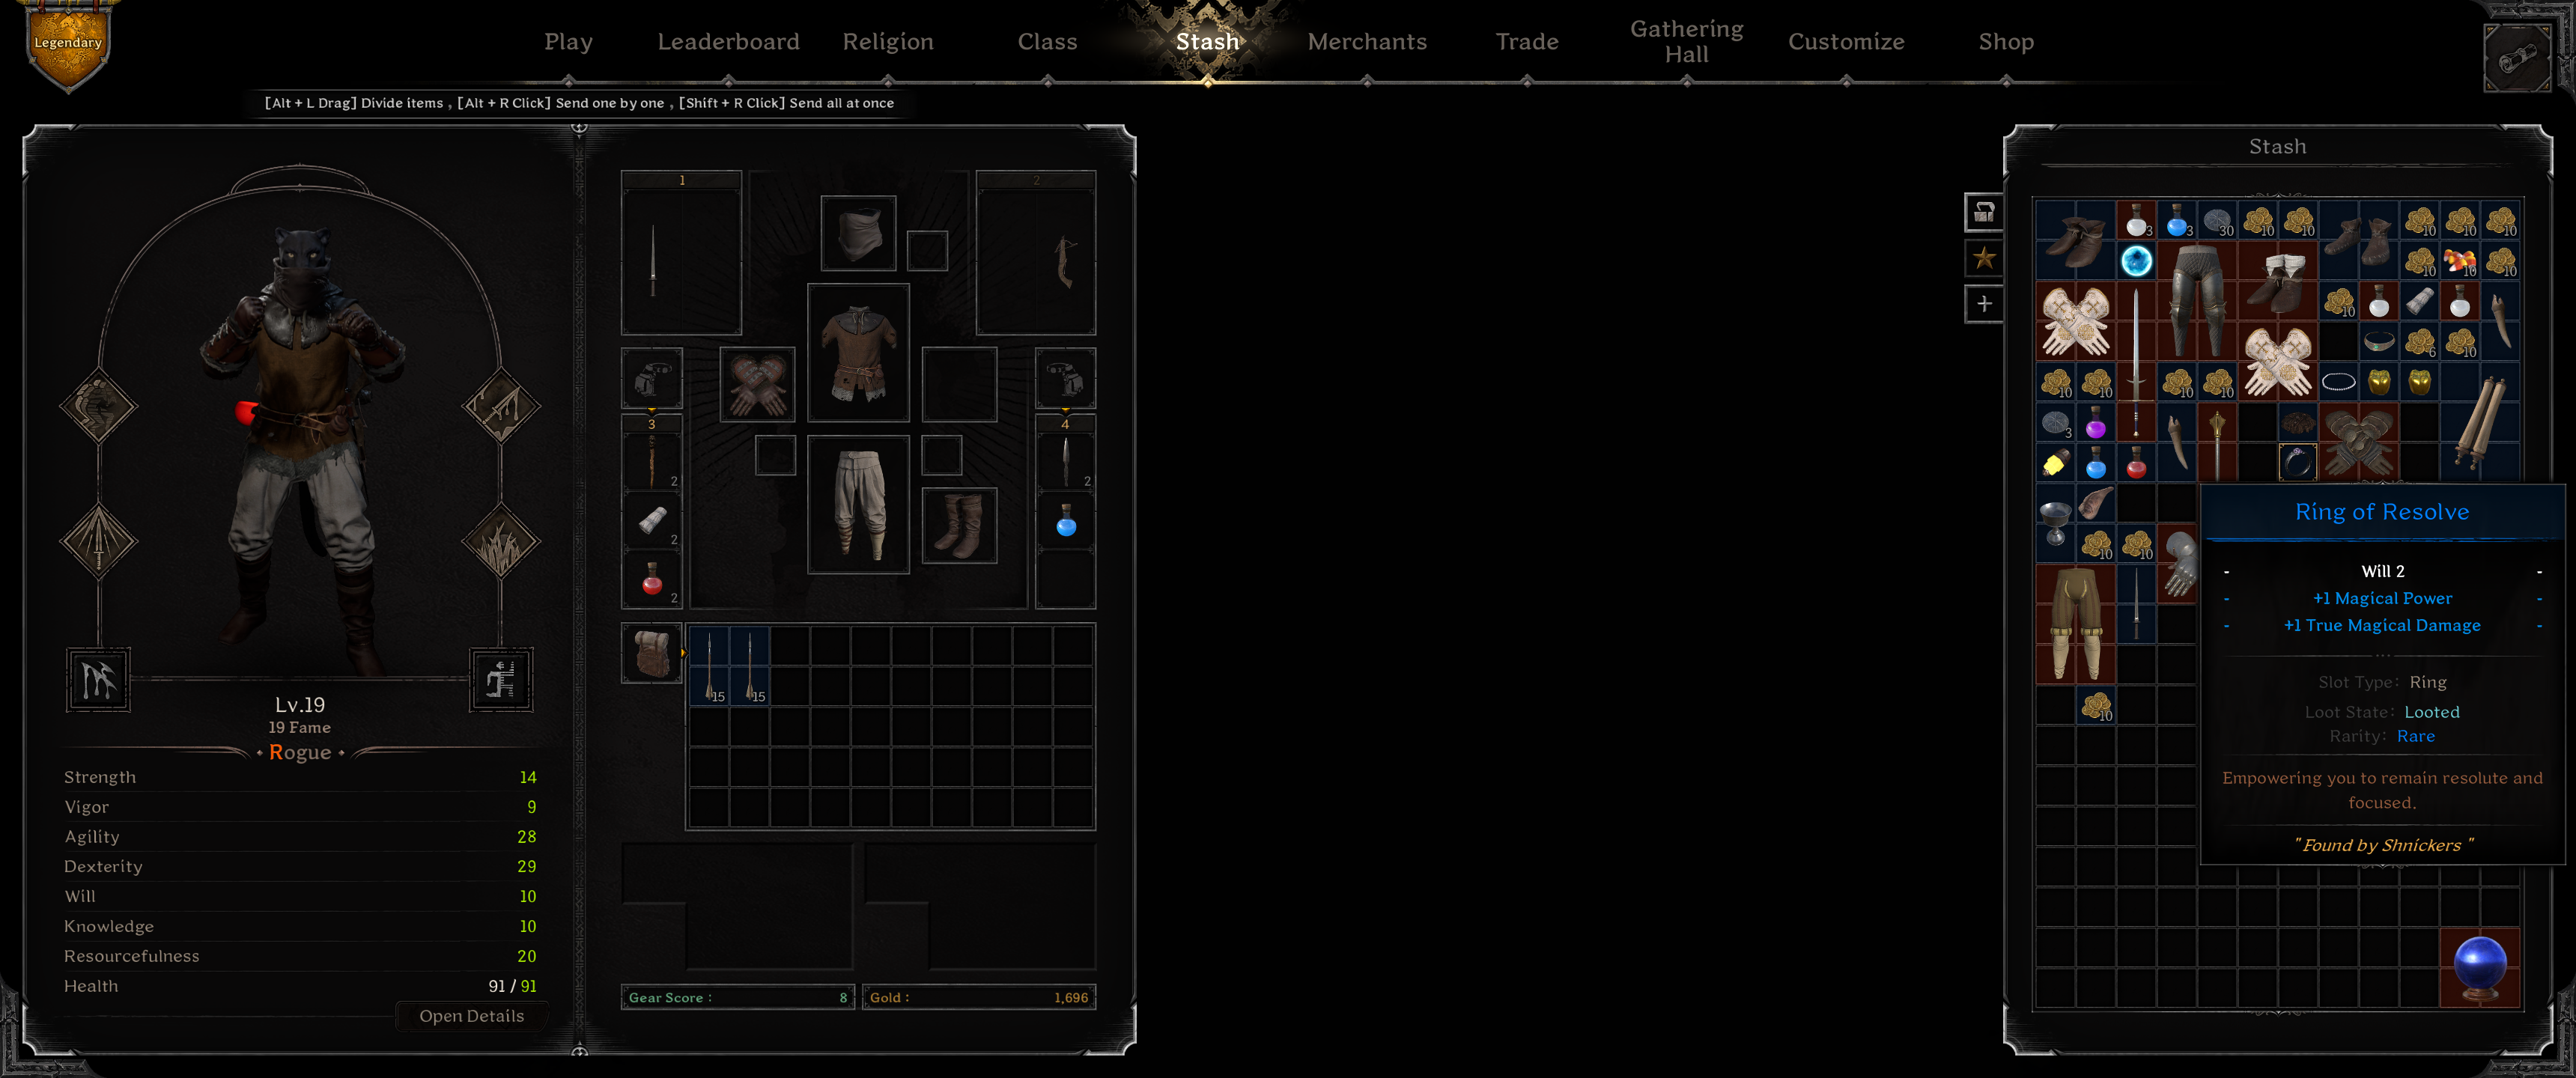Tooltip: (2198, 481, 2568, 868)
